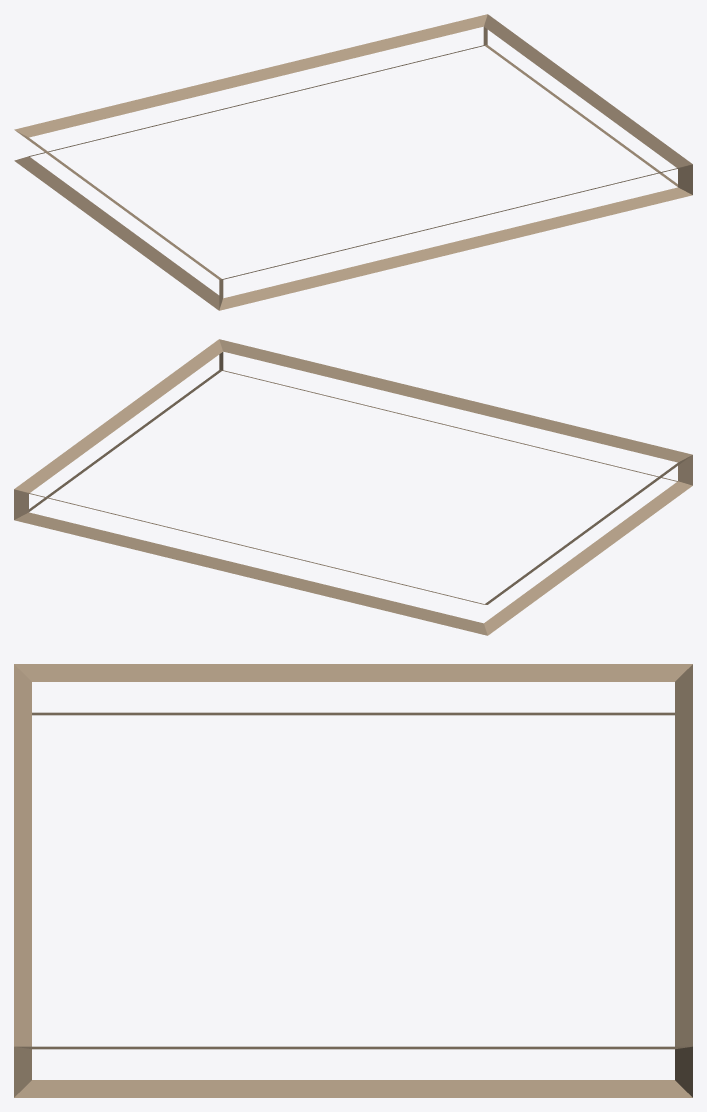
3 renders of one model, top to bottom at view 1: azimuth 30°, elevation 25°; view 2: azimuth 150°, elevation 25°; view 3: azimuth 270°, elevation 25°, orthographic. The views are drawn at different scales.
Visible parts, largest first — view 1: door_warehouse_lod0_run001; view 2: door_warehouse_lod0_run001; view 3: door_warehouse_lod0_run001.
Part boxes in pixels (x1=…): door_warehouse_lod0_run001: x1=14, y1=14, x2=692, y2=310; door_warehouse_lod0_run001: x1=14, y1=339, x2=692, y2=635; door_warehouse_lod0_run001: x1=14, y1=664, x2=692, y2=1097.
Size of the model in its own units: 4 by 0.25 by 3.
